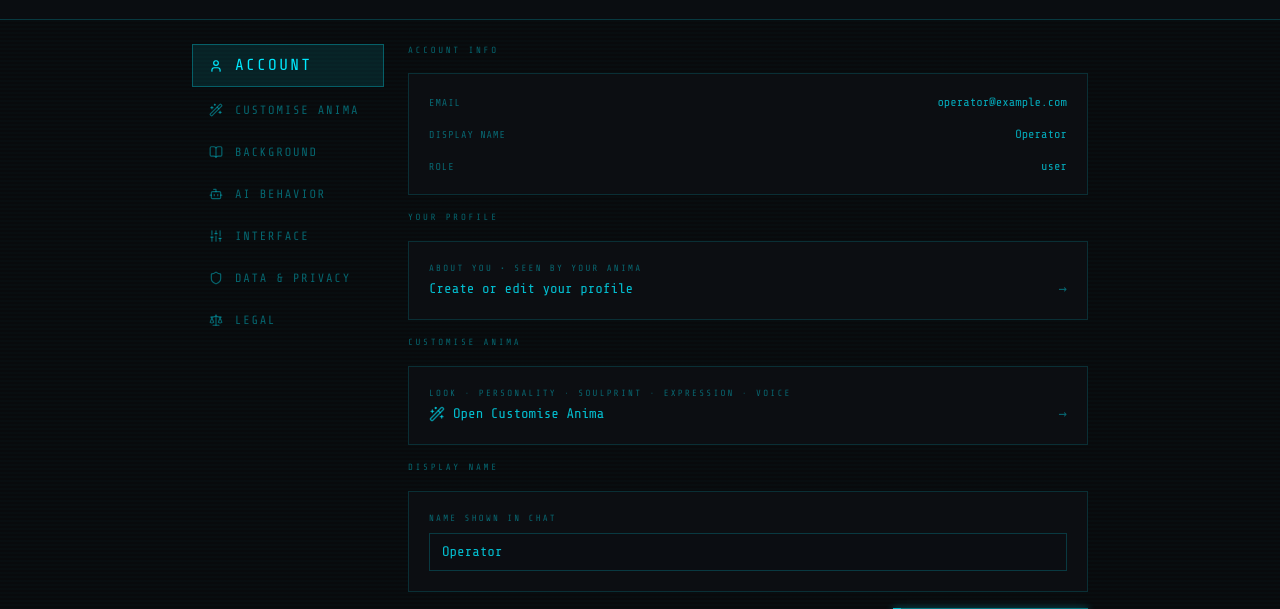
Test case: Settings custom chat background upload › uploads an image into the draft and persists it on save
Later steps or results of the test are not shown.
Click the button "Interface".
click(288, 236)  # box [192,217,384,255]
(page scrolled)
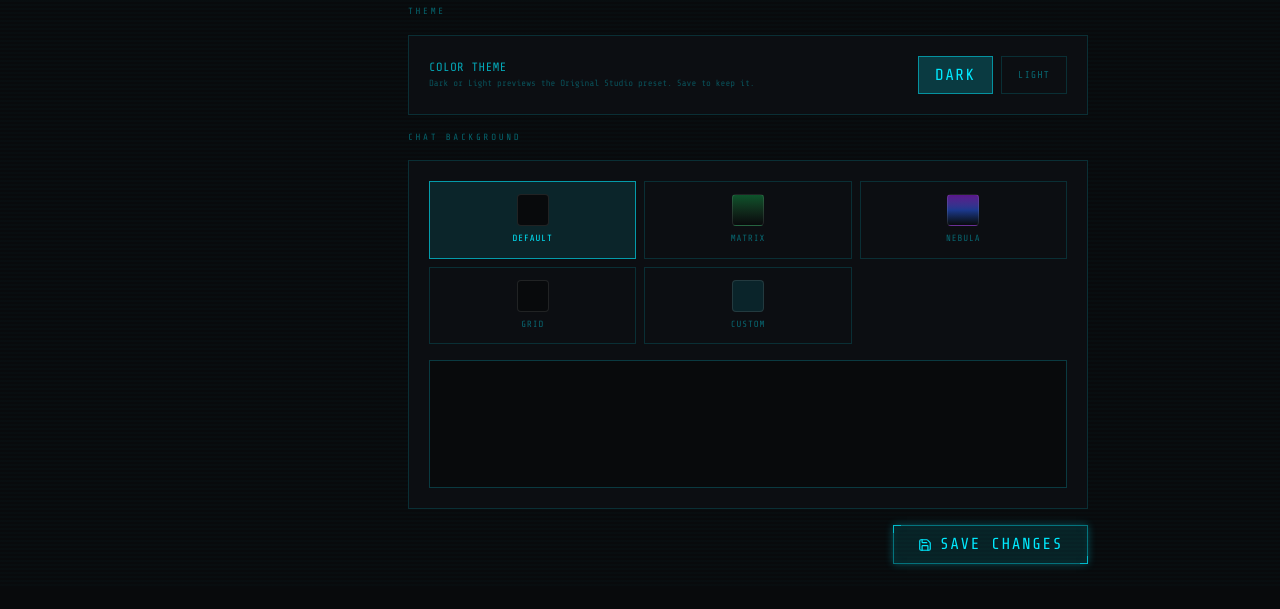
Click the button "Custom".
click(748, 305)  # box [644,267,852,344]
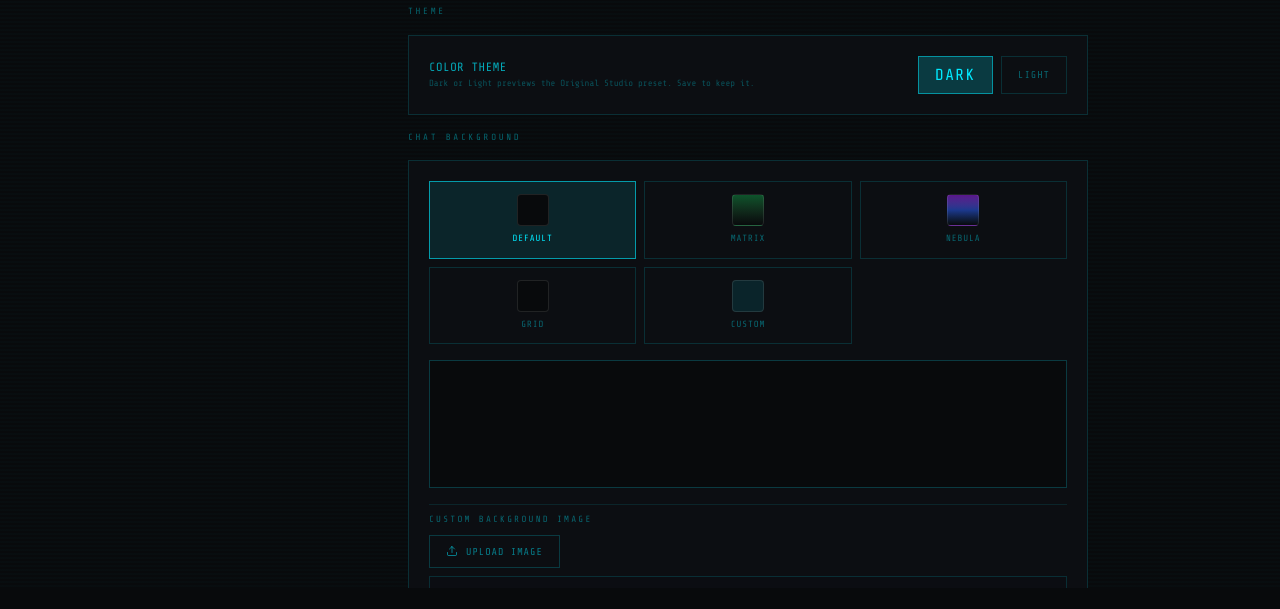
Expected: the file field labelled "Upload Image" is shown, [429,535,560,568]
